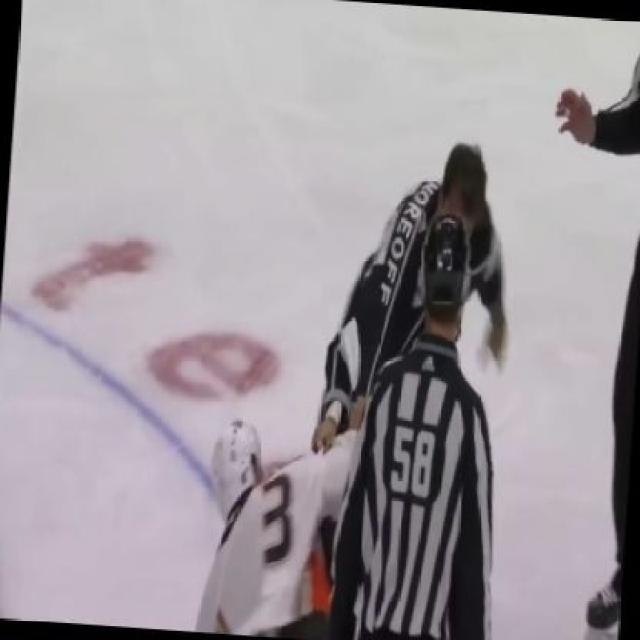fight: (192, 135, 511, 640)
non-fight: (330, 209, 497, 640)
